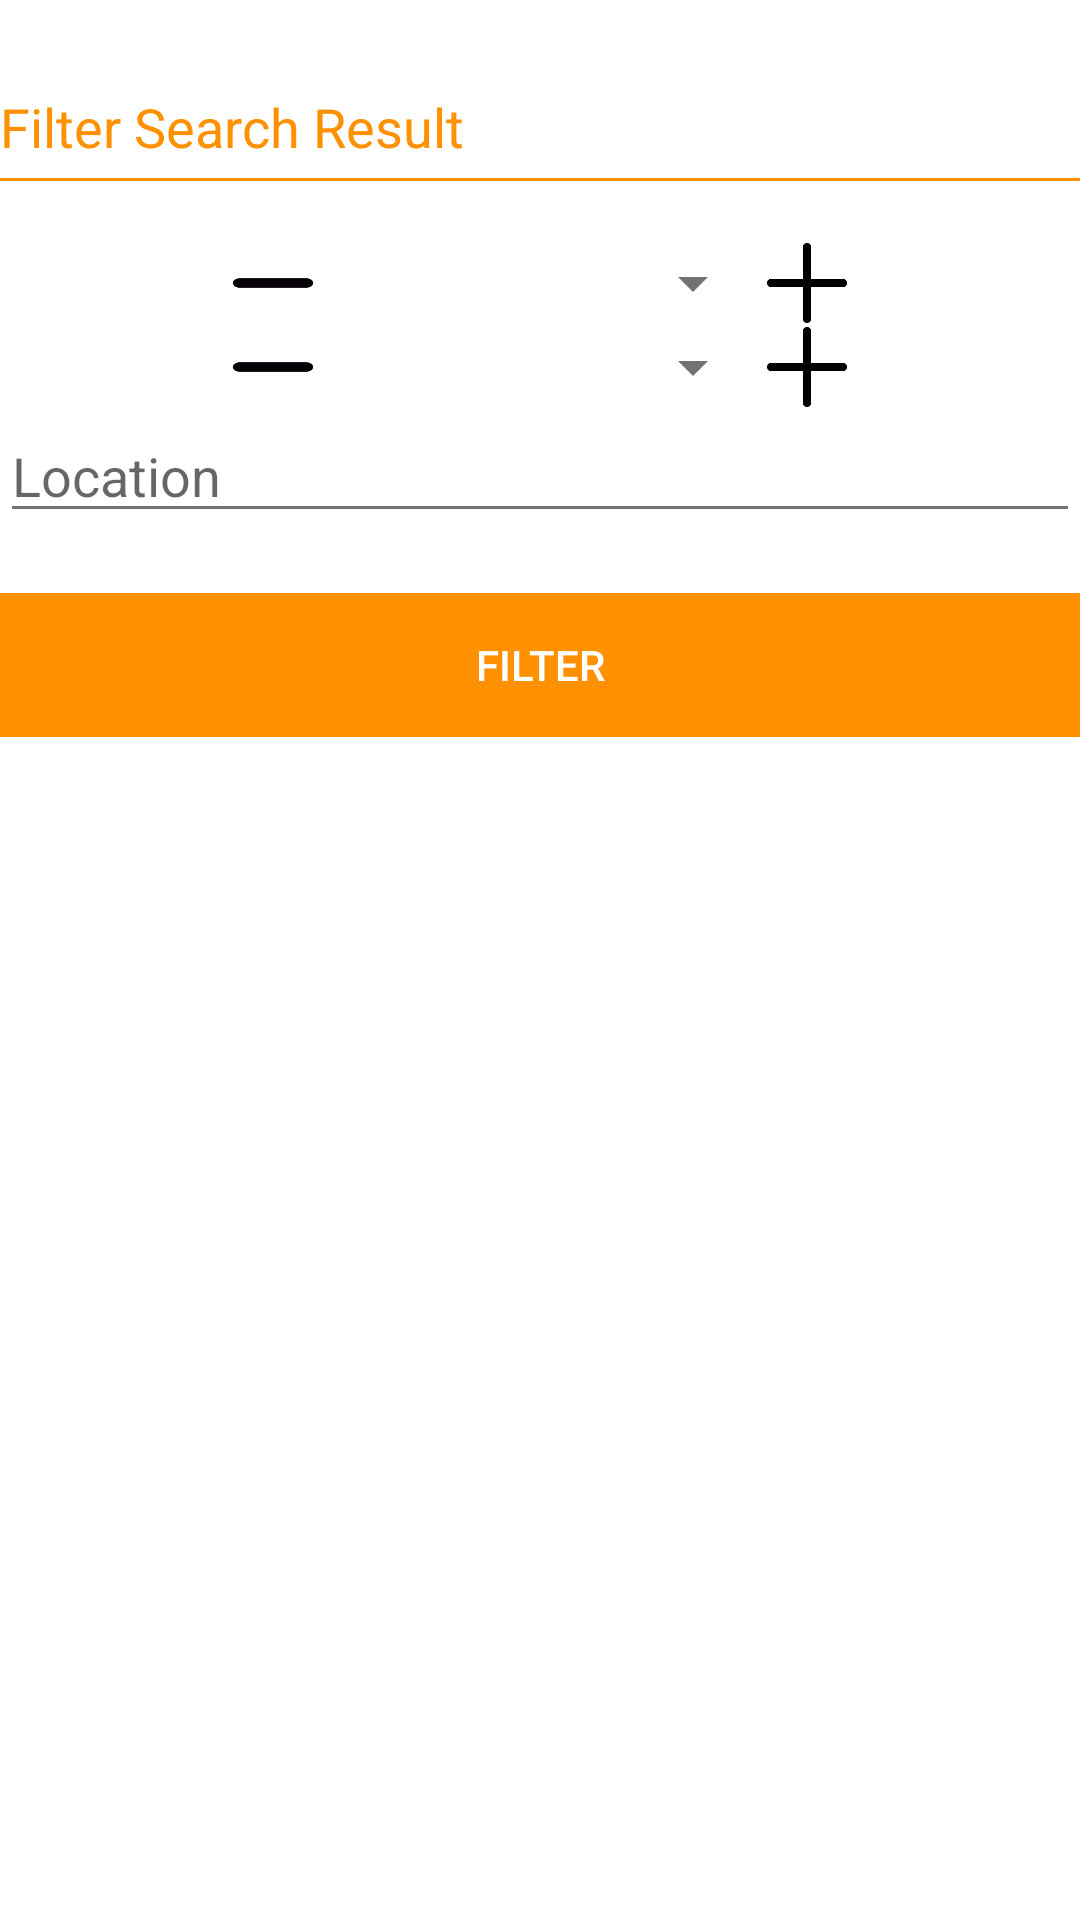

Where icons sit on this 1080w x 1920h app screen, as (x1, y1, x2, y2):
increase: (767, 243, 847, 323), (767, 327, 847, 407)
